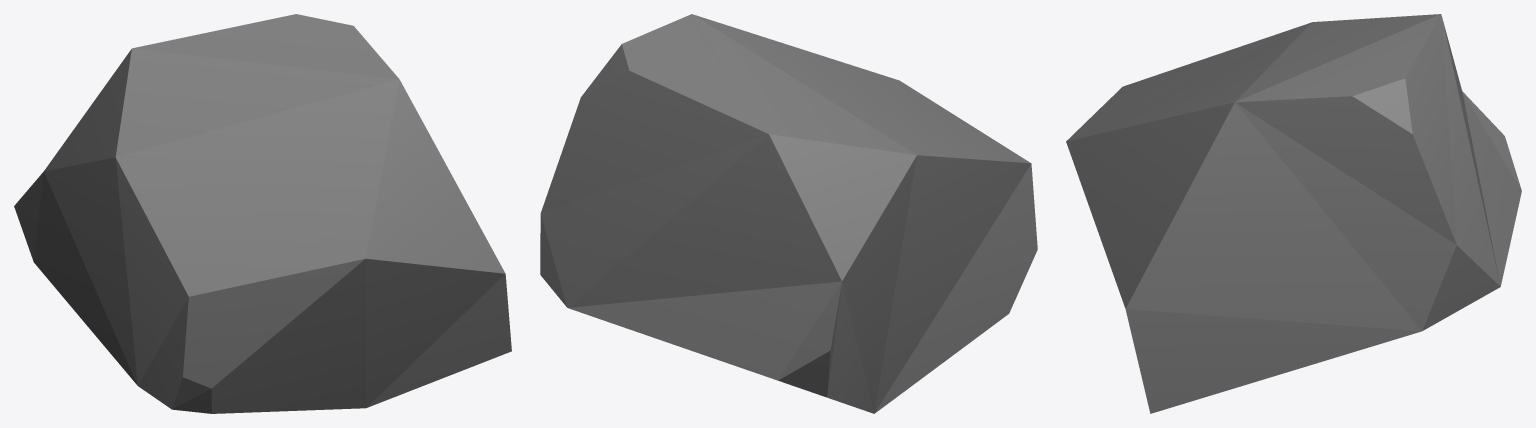
File: stone-small-9.glb
3 renders of one model, left to right at view 1: azimuth 30°, elevation 25°; view 2: azimuth 150°, elevation 25°; view 3: azimuth 270°, elevation 25°, orthographic. The views are drawn at different scales.
Parts seen in each view (by area): view 1: stone small 9; view 2: stone small 9; view 3: stone small 9.
Part boxes in pixels (x1,y1,x2,y2): stone small 9: (14,14,511,413); stone small 9: (540,14,1037,413); stone small 9: (1066,14,1521,413).
Bounding box in the file's own units: 0.5321 × 0.4445 × 0.5823.
1 material, 1 textured.
